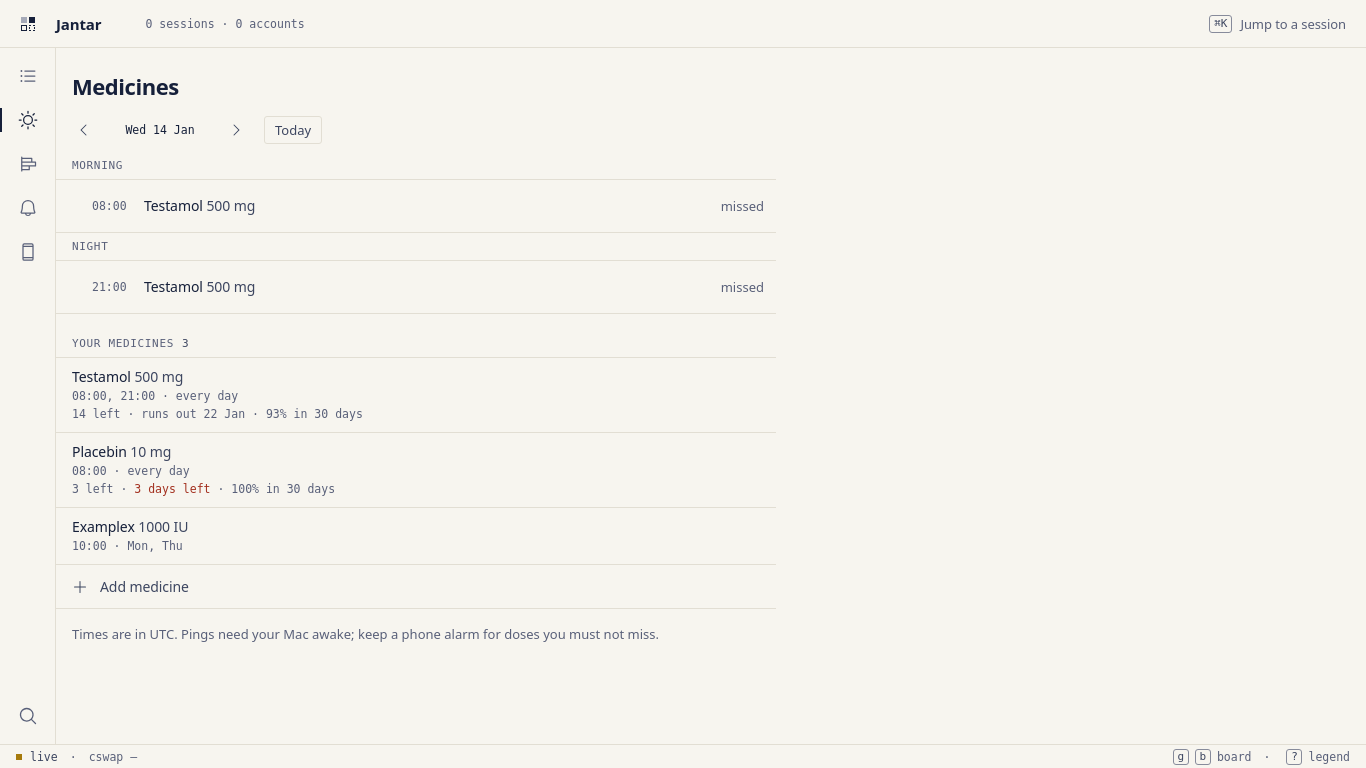
Medicines: the day › a past day shows its misses with no buttons, still tappable to log; the stepper moves by day and stops at today
Expected: the element "Morning" is shown, [56,152,776,233]
Expected: the 1st text "missed" is shown, [721,197,764,215]
What coordinates should you click on to do the following:
click the button with aria-label "Testamol 500 mg at 21:00, missed"
I would click on:
 (109, 287)
Its box is [56,261,713,313].
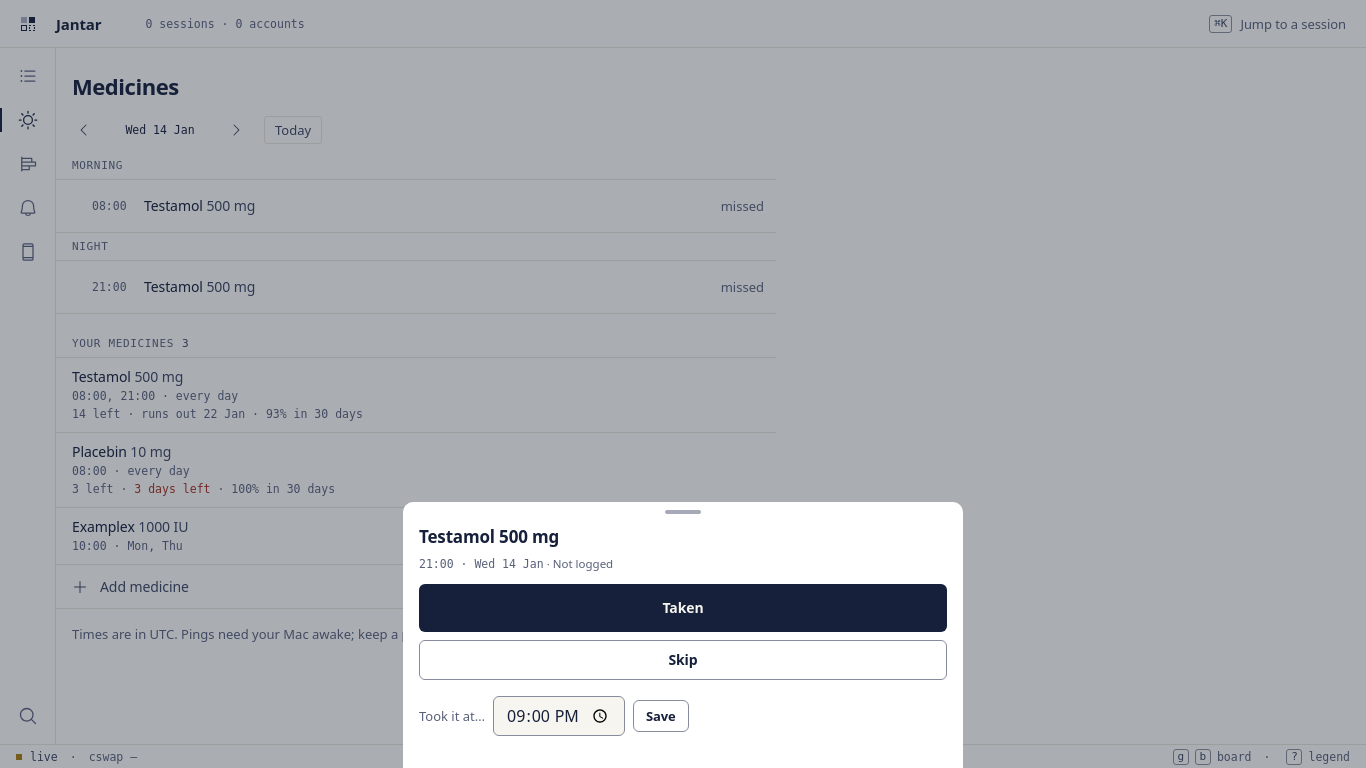
What coordinates should you click on to do the following:
click the button "Taken"
I would click on:
 (683, 608)
Its box is [419,584,947,632].
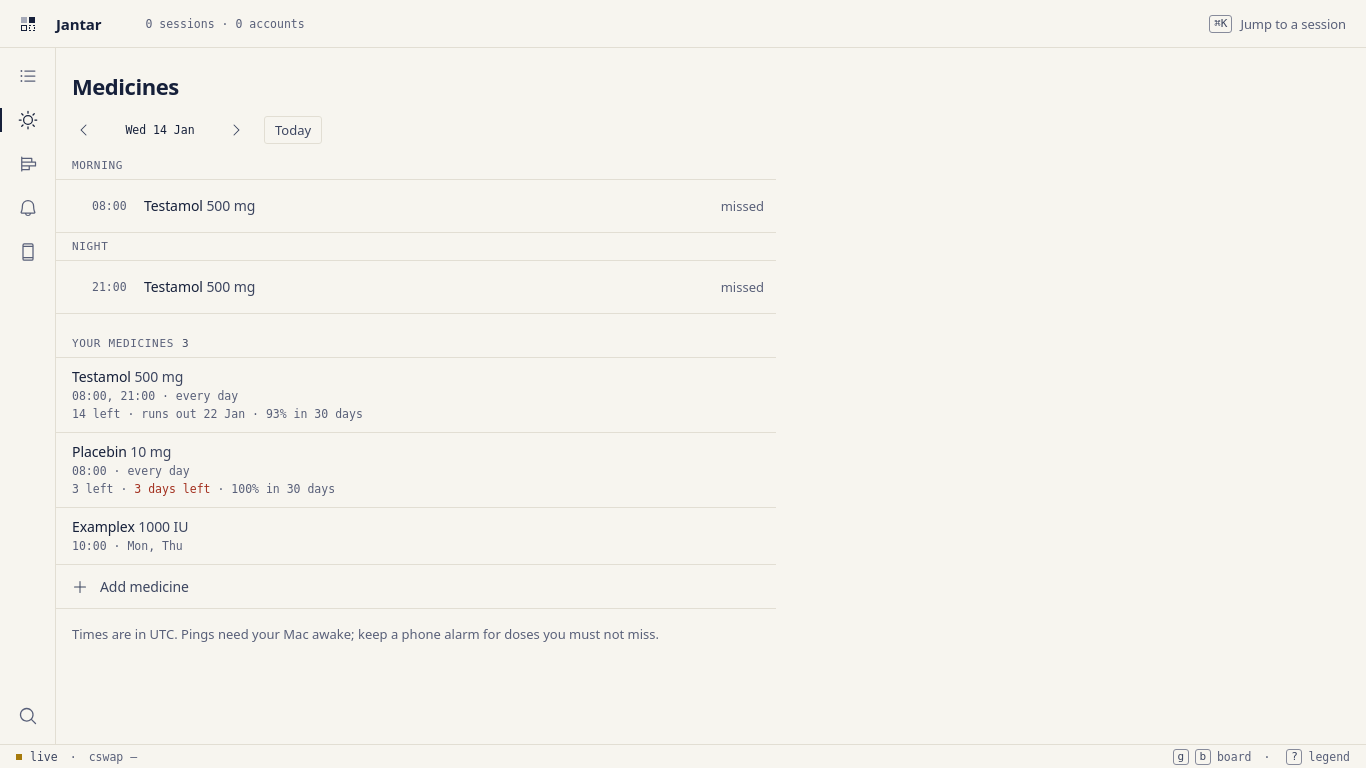
What coordinates should you click on to do the following:
click the button named "Previous day"
I would click on:
 (84, 130)
Its box is [68,114,100,146].
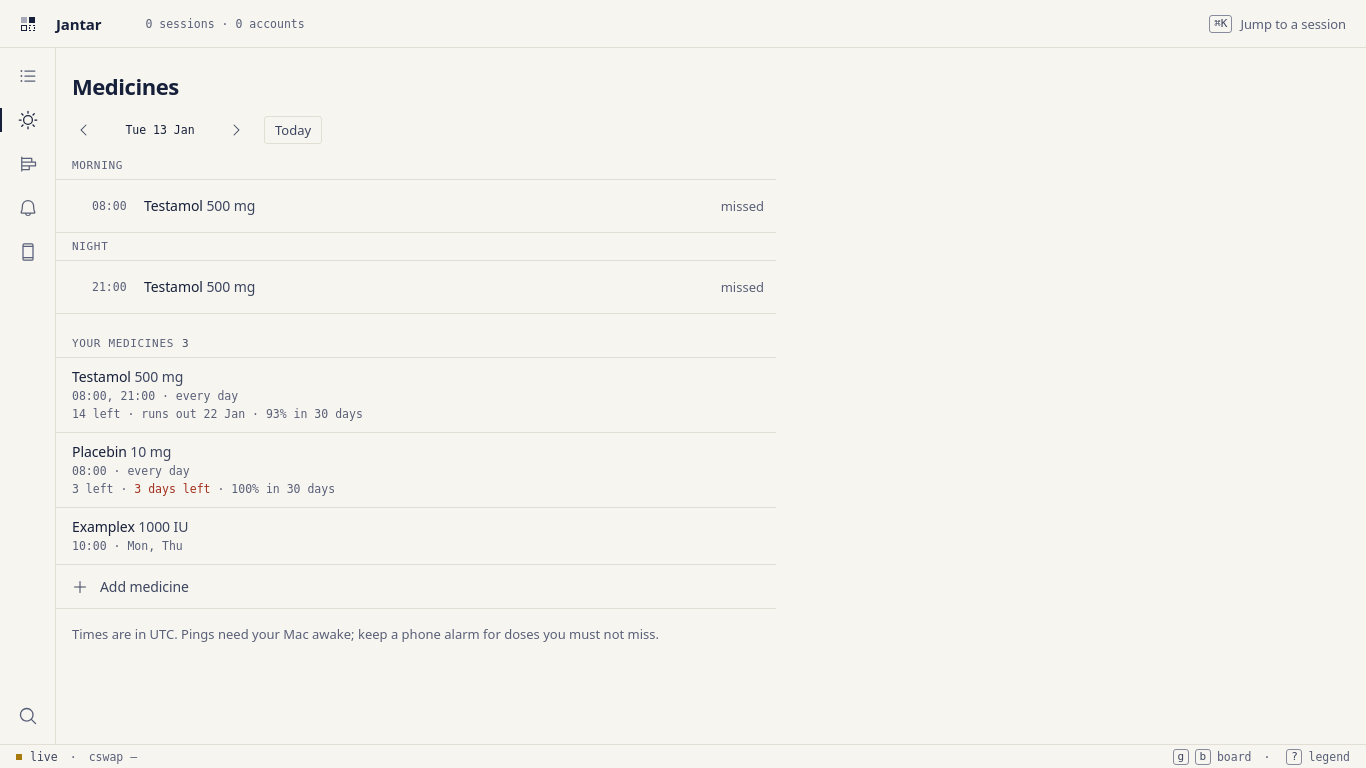
Result: the text "Tue 13 Jan" is shown at [125,123,195,137]
What coordinates should you click on to do the following:
click the button named "Next day"
I would click on:
 (236, 130)
Its box is [220,114,252,146].
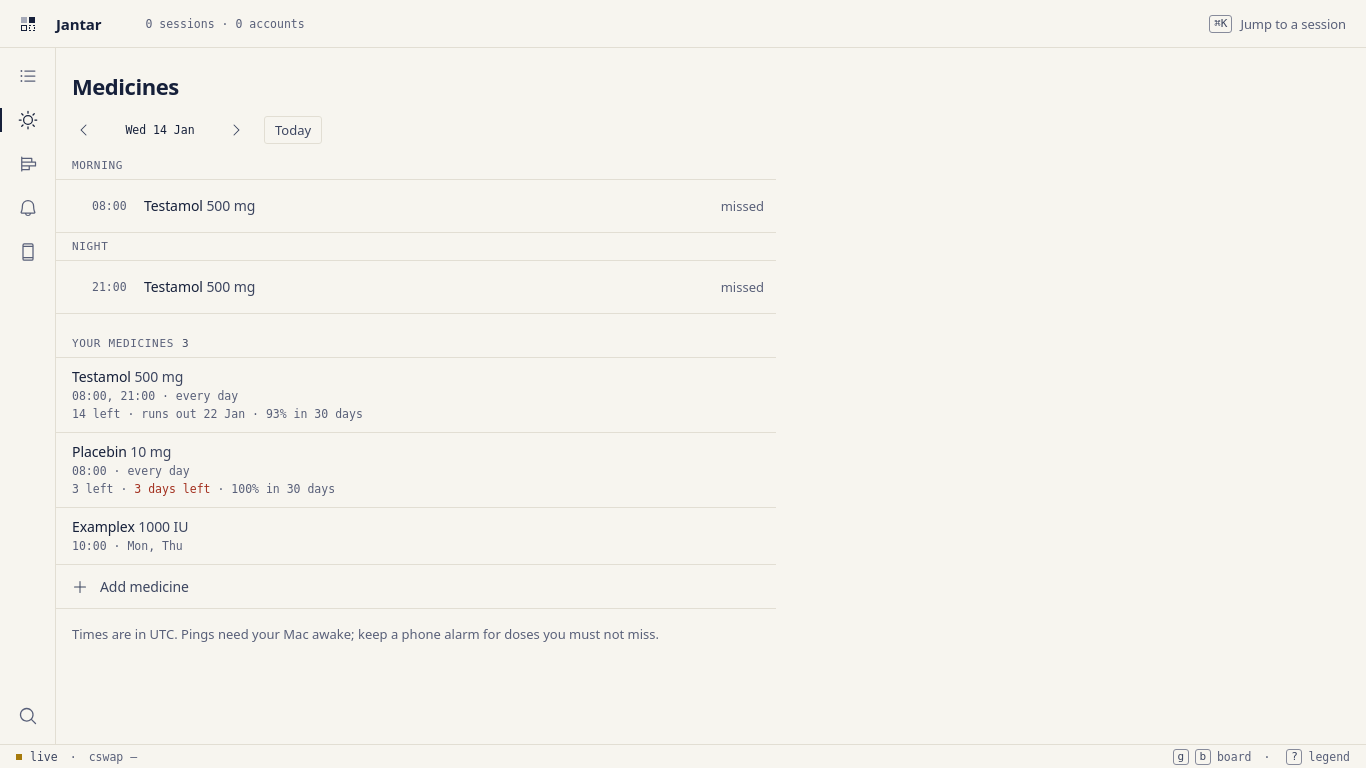
Result: the text "Wed 14 Jan" is shown at [125,123,195,137]
What coordinates should you click on to do the following:
click the button named "Next day"
I would click on:
 (236, 130)
Its box is [220,114,252,146].
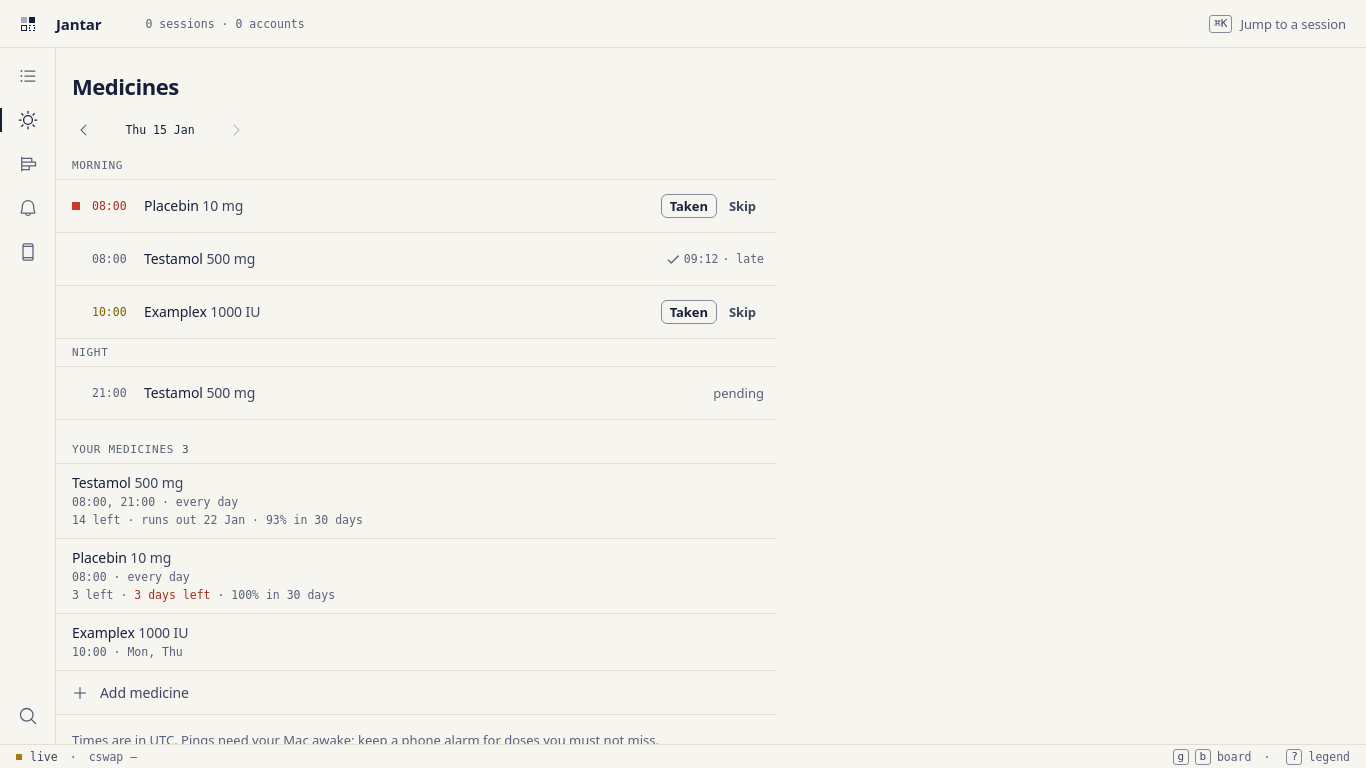
Result: the text "Thu 15 Jan" is shown at [125,123,195,137]
